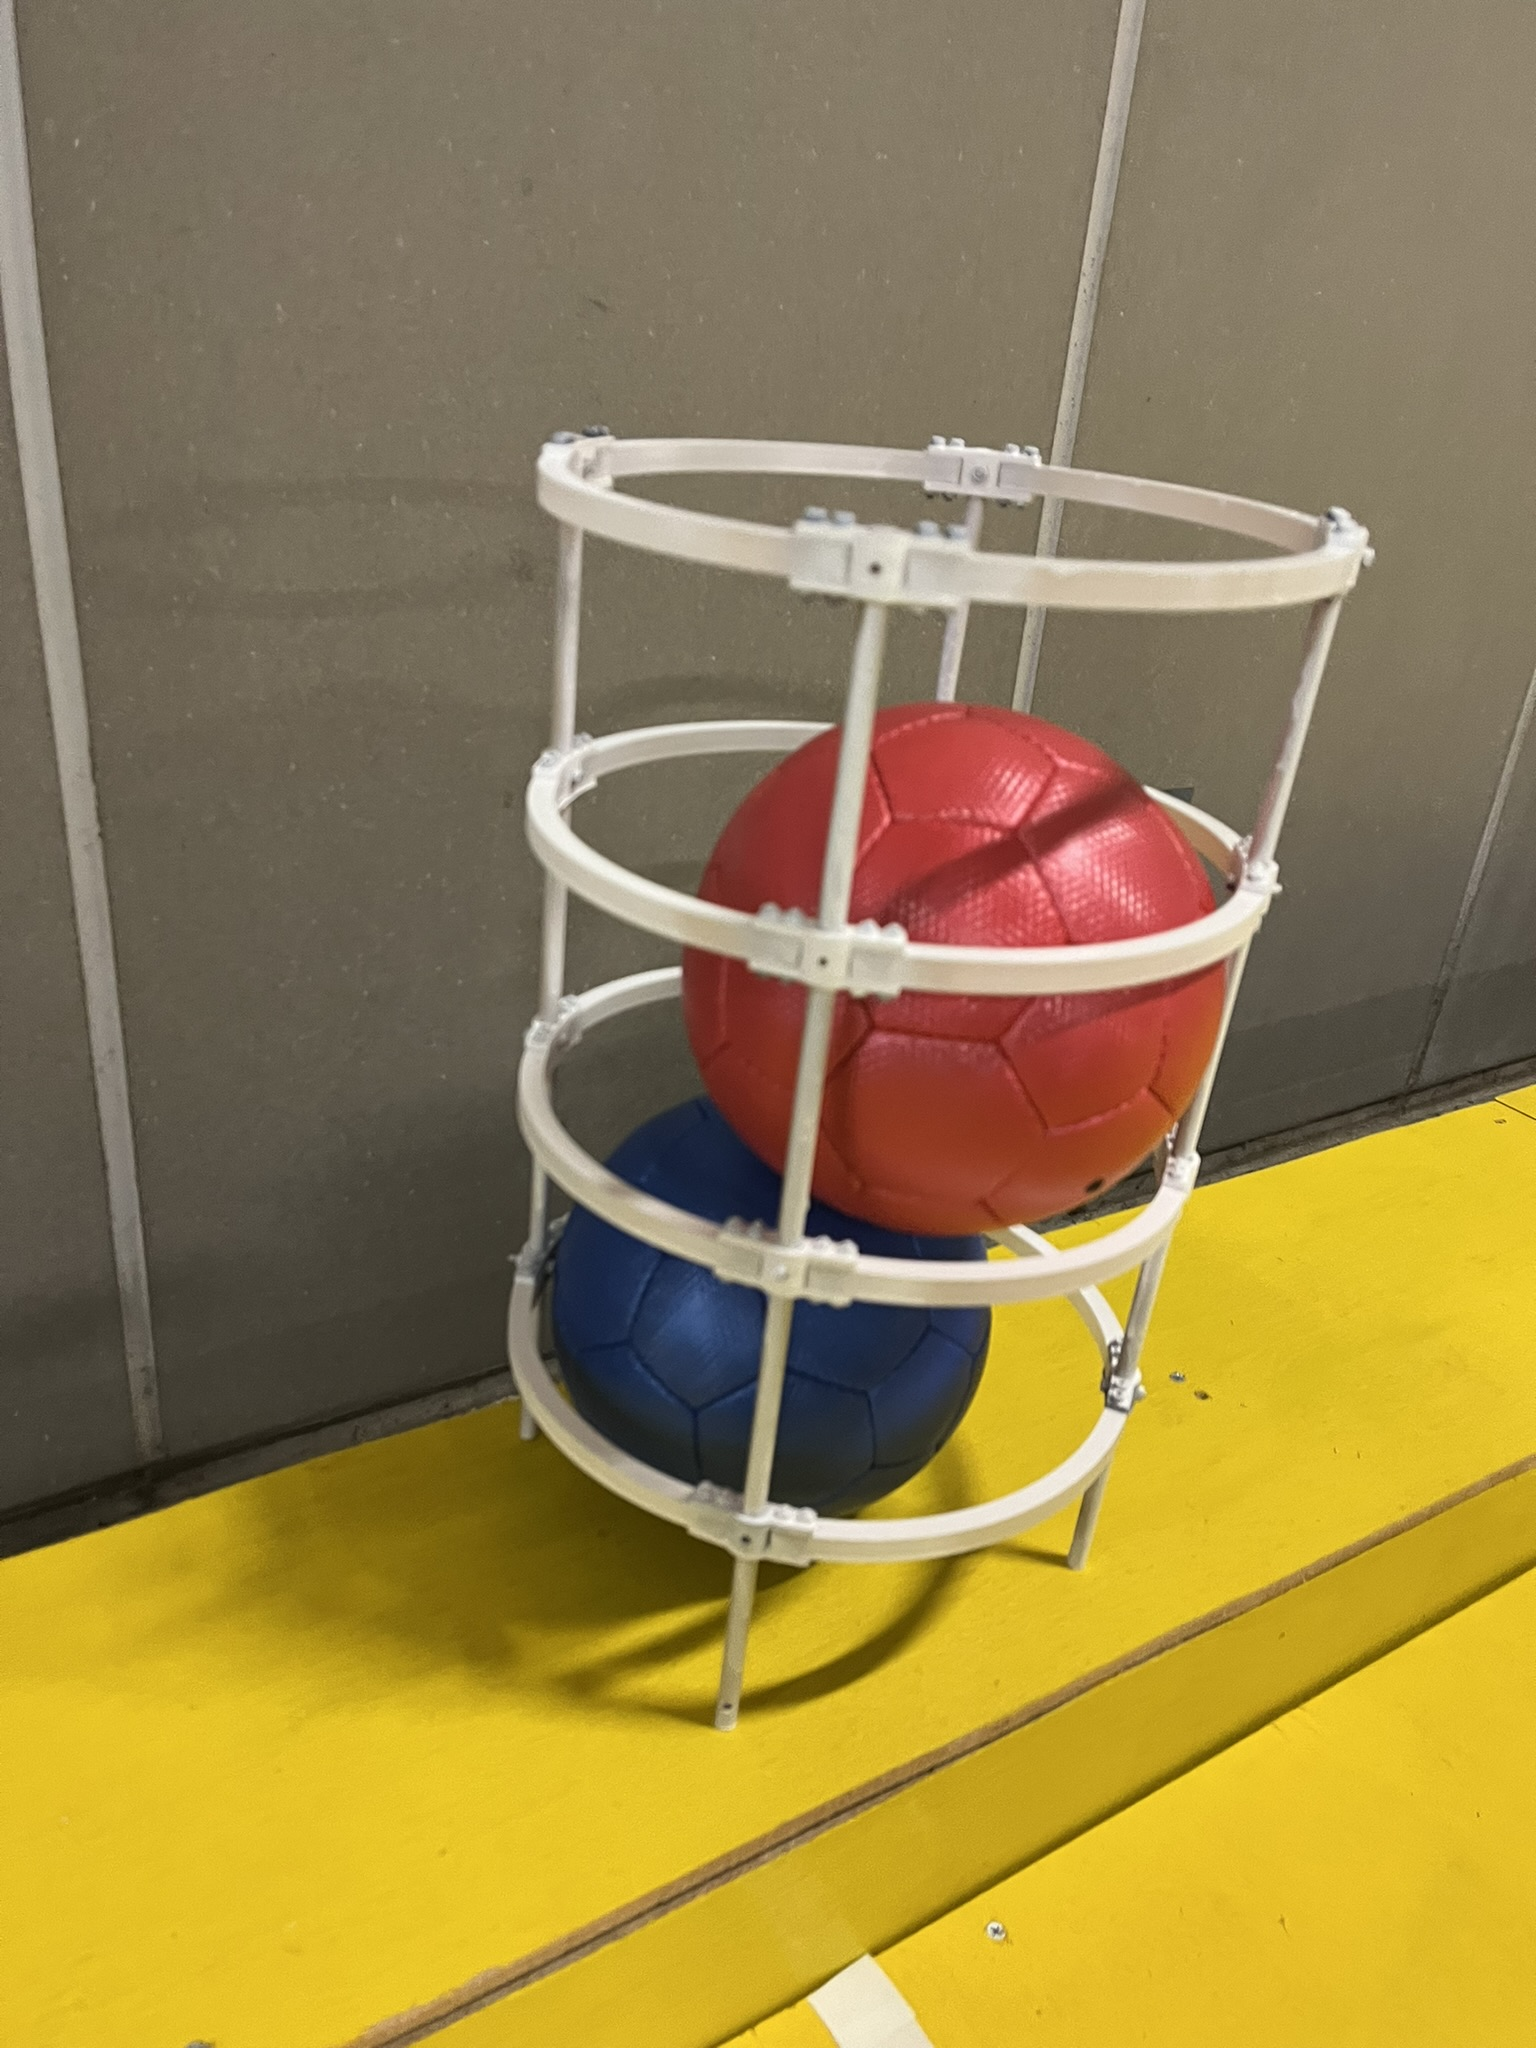blue: (507, 1071, 1008, 1538)
